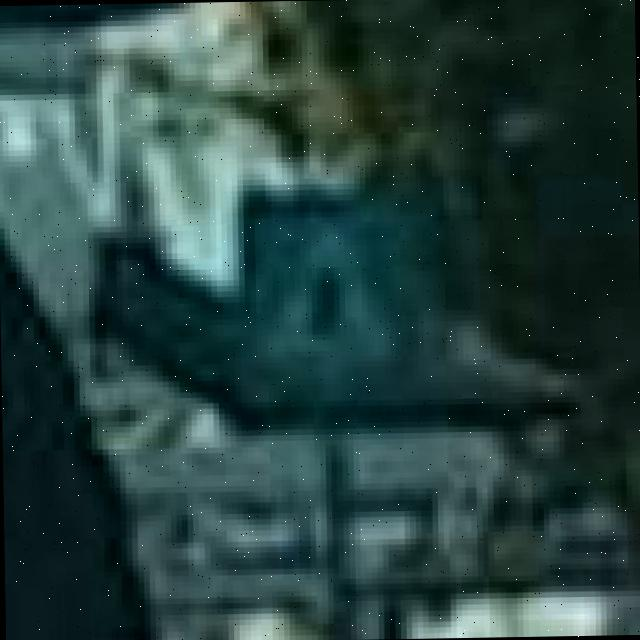Przejscie dla pieszych: (237, 187, 436, 407)
